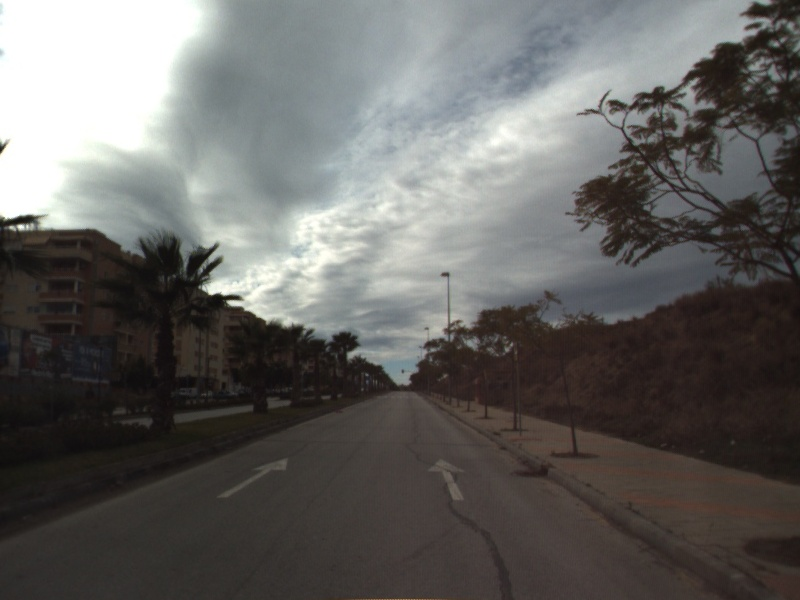STRAIGHT: (215, 456, 290, 500), (425, 456, 468, 503)
